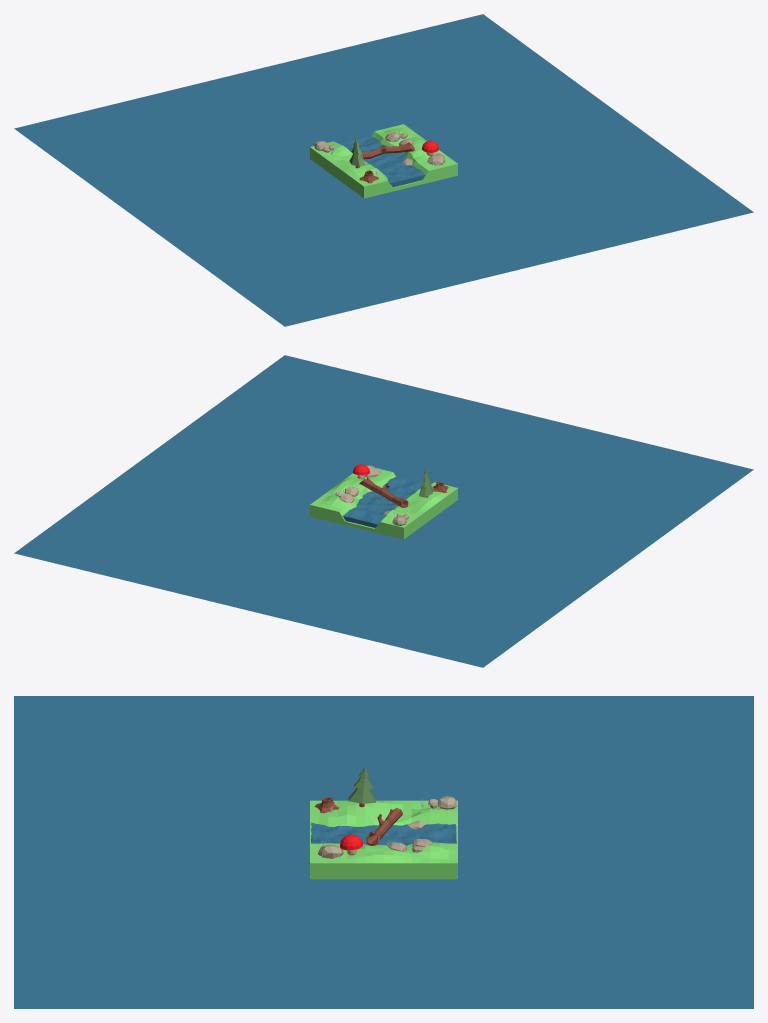
Rendered from forest - kopia.fbx.
The picture shows the model from 3 angles, top to bottom: view 1: azimuth 30°, elevation 25°; view 2: azimuth 150°, elevation 25°; view 3: azimuth 270°, elevation 25°; orthographic projection. The views are drawn at different scales.
Visible parts, largest first — view 1: Plane.099, Plane.080, Plane.081; view 2: Plane.099, Plane.080, Plane.081; view 3: Plane.099, Plane.080, Plane.081, Circle.012, Cylinder.004.
Boxes of the visible parts, bbox=[...] form: Plane.099: bbox=[14, 14, 753, 326]; Plane.080: bbox=[310, 124, 457, 198]; Plane.081: bbox=[340, 136, 425, 187]; Plane.099: bbox=[14, 355, 753, 667]; Plane.080: bbox=[310, 465, 457, 539]; Plane.081: bbox=[343, 477, 421, 527]; Plane.099: bbox=[14, 696, 753, 1008]; Plane.080: bbox=[310, 800, 457, 879]; Plane.081: bbox=[311, 822, 456, 845]; Circle.012: bbox=[348, 766, 375, 807]; Cylinder.004: bbox=[366, 808, 402, 845].
Bounding box in the file's own units: 5973 × 565 × 5973.
